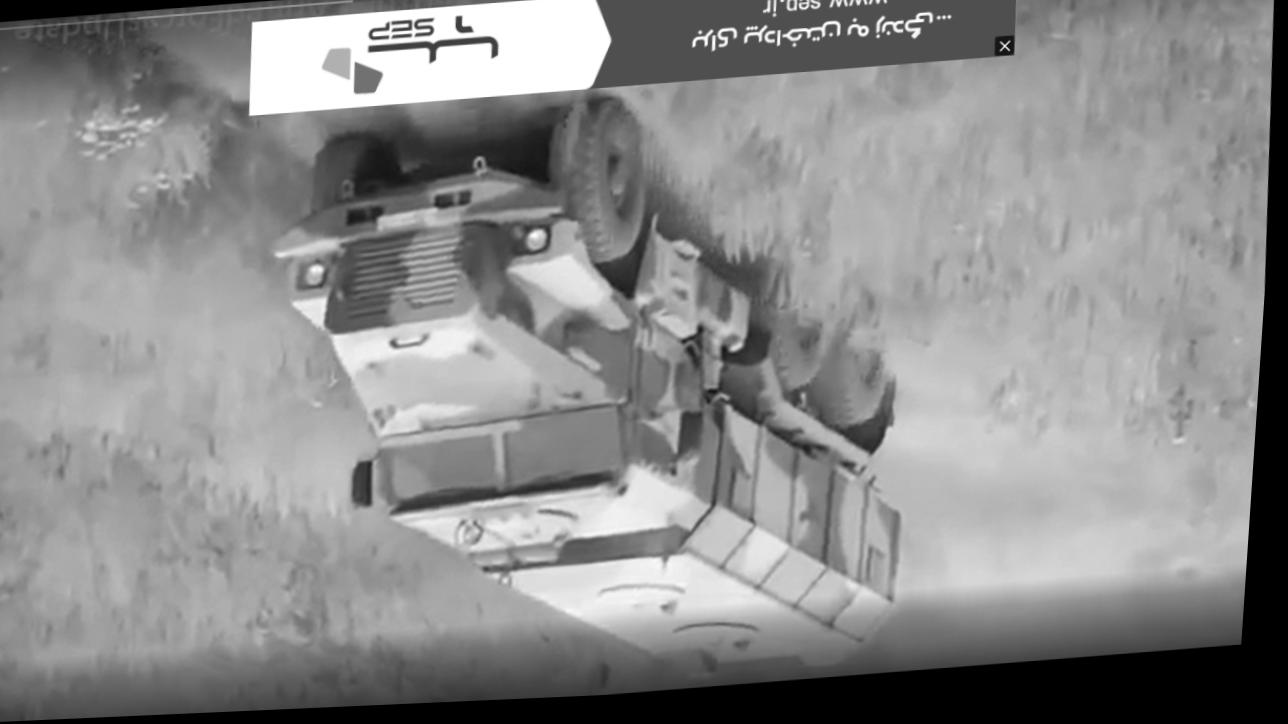truck: (229, 78, 939, 712)
